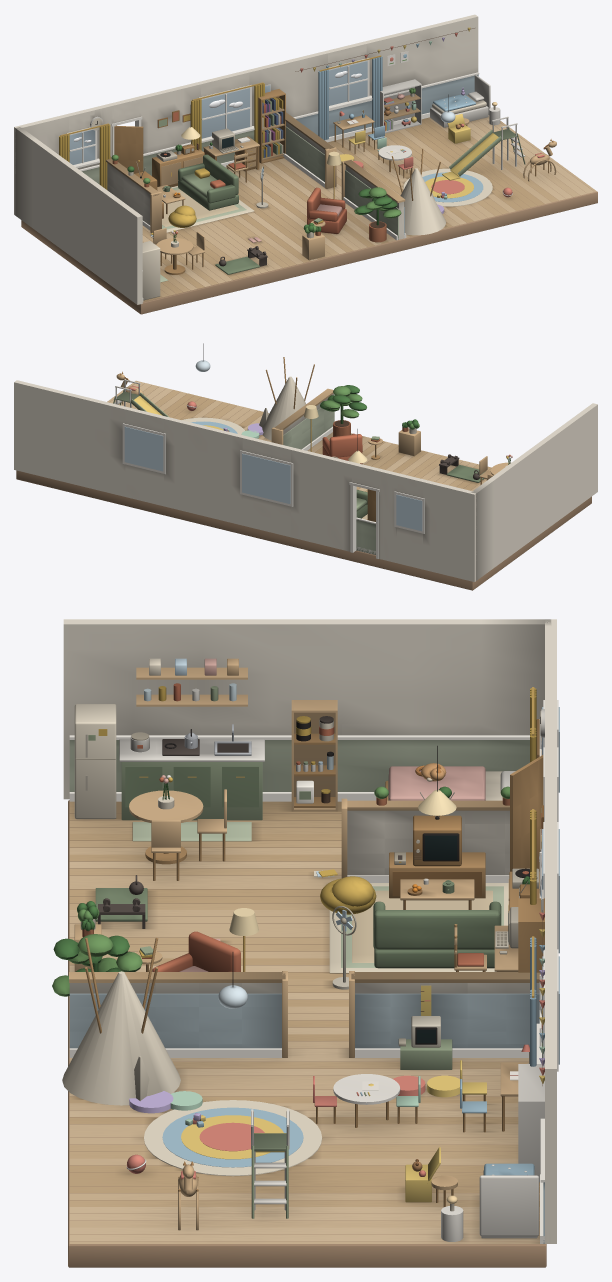
File: room.glb
3 renders of one model, top to bottom at view 1: azimuth 30°, elevation 25°; view 2: azimuth 150°, elevation 25°; view 3: azimuth 270°, elevation 25°, orthographic. The views are drawn at different scales.
Parts seen in each view (by area): view 1: s_floor, s_wallB, s_wallL, s_slab, s_divider, s_winK, s_winB, f_sofa, f_tent, s_half, s_winL, d_krug (+22 smaller); view 2: s_wallB, s_wallL, s_slab, s_floor, s_winB, s_divider, s_winK, f_tent, d_bigplant, s_winL, s_door, f_armchair (+5 smaller); view 3: s_floor, s_wallL, s_divider, s_slab, f_tent, f_kitchen, d_krug, s_half, s_wallB, f_sofa, f_supp, d_fridge (+32 smaller).
Part boxes in pixels (x1,y1,x2,y2): s_floor: (142, 115, 596, 301); s_wallB: (14, 14, 479, 215); s_wallL: (15, 127, 142, 304); s_slab: (21, 118, 597, 314); s_divider: (282, 112, 406, 240); s_winK: (318, 55, 382, 140); s_winB: (191, 82, 264, 150); f_sofa: (178, 154, 238, 210); f_tent: (391, 148, 445, 235); s_half: (106, 156, 161, 233); s_winL: (59, 123, 110, 189); d_krug: (403, 168, 492, 206); s_wallB: (14, 380, 477, 581); s_wallL: (471, 403, 597, 580); s_slab: (16, 383, 591, 590); s_floor: (107, 380, 491, 492); s_winB: (240, 450, 293, 506); s_divider: (271, 388, 334, 450); s_winK: (122, 423, 165, 474); f_tent: (259, 357, 314, 440); d_bigplant: (320, 385, 366, 436); s_winL: (394, 491, 424, 533); s_door: (349, 482, 379, 558); f_armchair: (322, 433, 362, 464); s_floor: (69, 801, 539, 1243); s_wallL: (63, 619, 550, 799); s_divider: (69, 971, 540, 1057); s_slab: (68, 800, 546, 1267); f_tent: (62, 937, 180, 1105); f_kitchen: (119, 724, 264, 820); d_krug: (144, 1100, 322, 1176); s_half: (341, 798, 509, 882); s_wallB: (540, 619, 556, 1243); f_sofa: (373, 901, 501, 968); f_supp: (291, 700, 337, 811); d_fridge: (74, 704, 116, 819).
Bounding box in the file's own units: 14.34 × 3.2 × 6.84.
